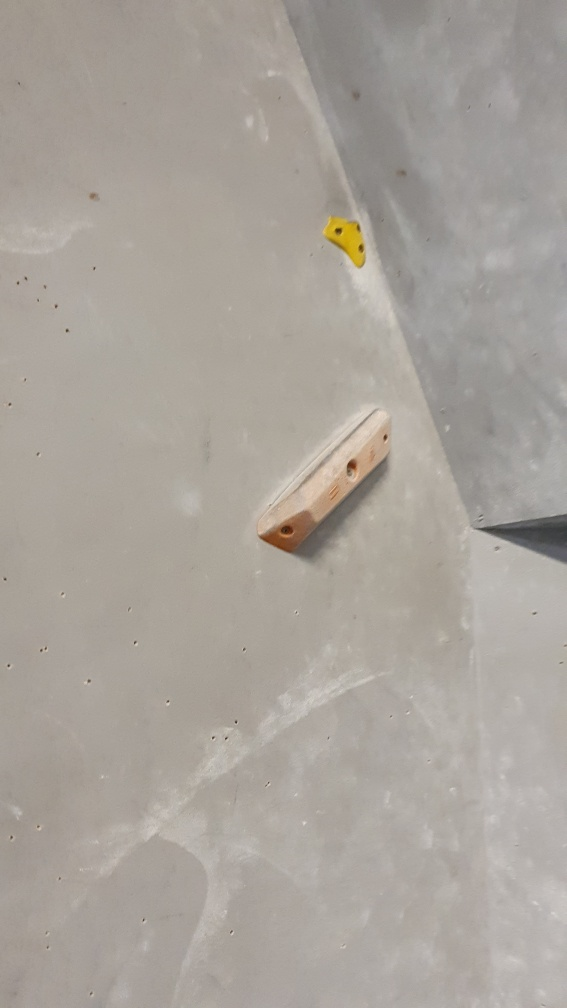Pinch: (250, 402, 396, 557)
